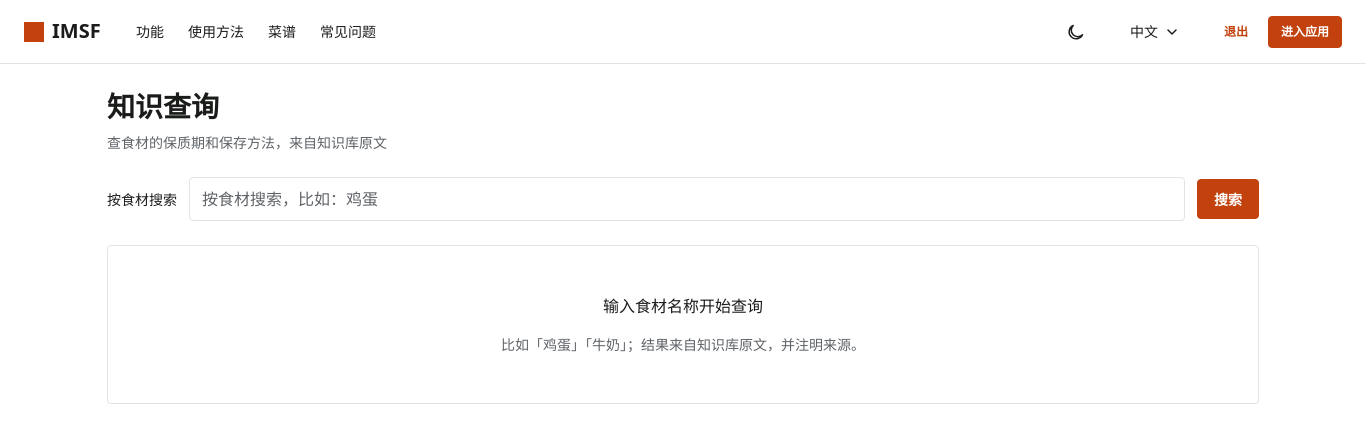
Scenario: /knowledge › switching to Vietnamese renders the knowledge page in Vietnamese (Phase 4, F-02)
This screenshot has width=1366, height=421.
Expected: the heading "知识查询" is shown, [107, 87, 219, 125]
Click the button with aria-label "语言". click: x=1155, y=32
box: [1122, 10, 1188, 54]
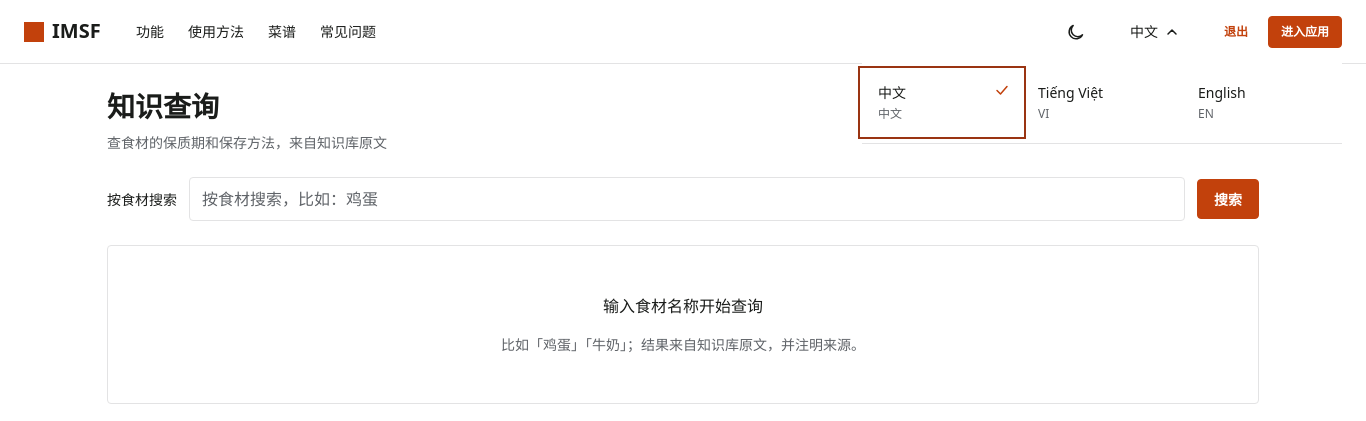
Click the menu item "Tiếng Việt VI". click: x=1102, y=102
box: [1022, 70, 1182, 135]
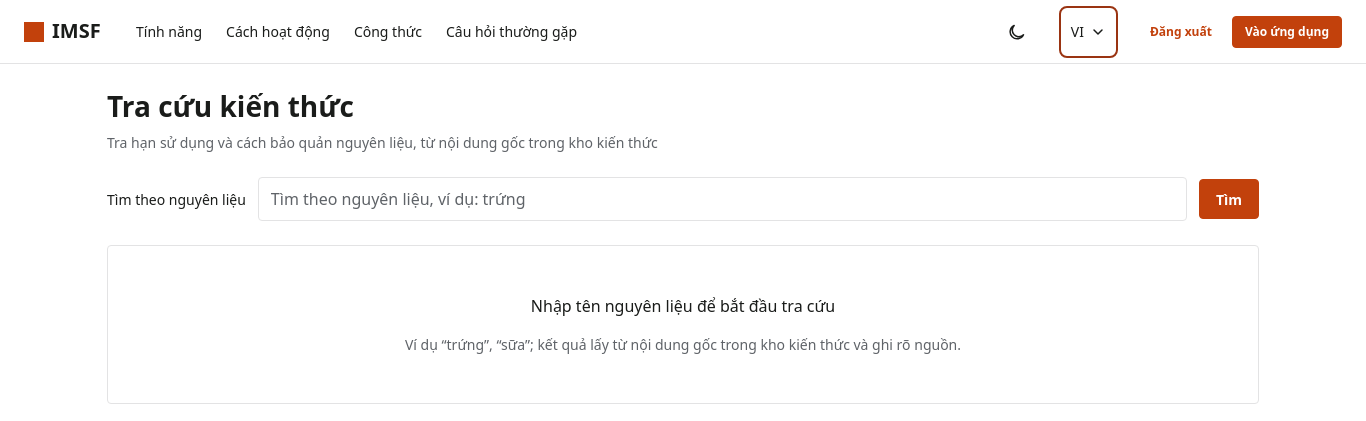
Expected: the heading "Tra cứu kiến thức" is shown, [107, 87, 354, 125]
Expected: the text "Nhập tên nguyên liệu để bắt đầu tra cứu" is shown, [531, 294, 835, 318]
